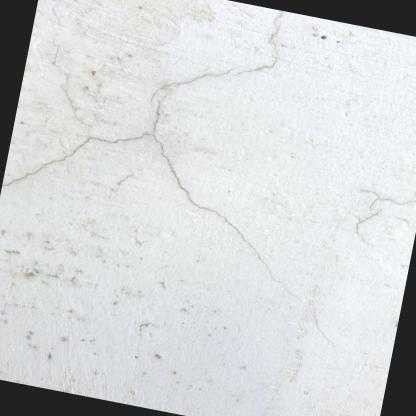crack: (0, 9, 285, 279)
